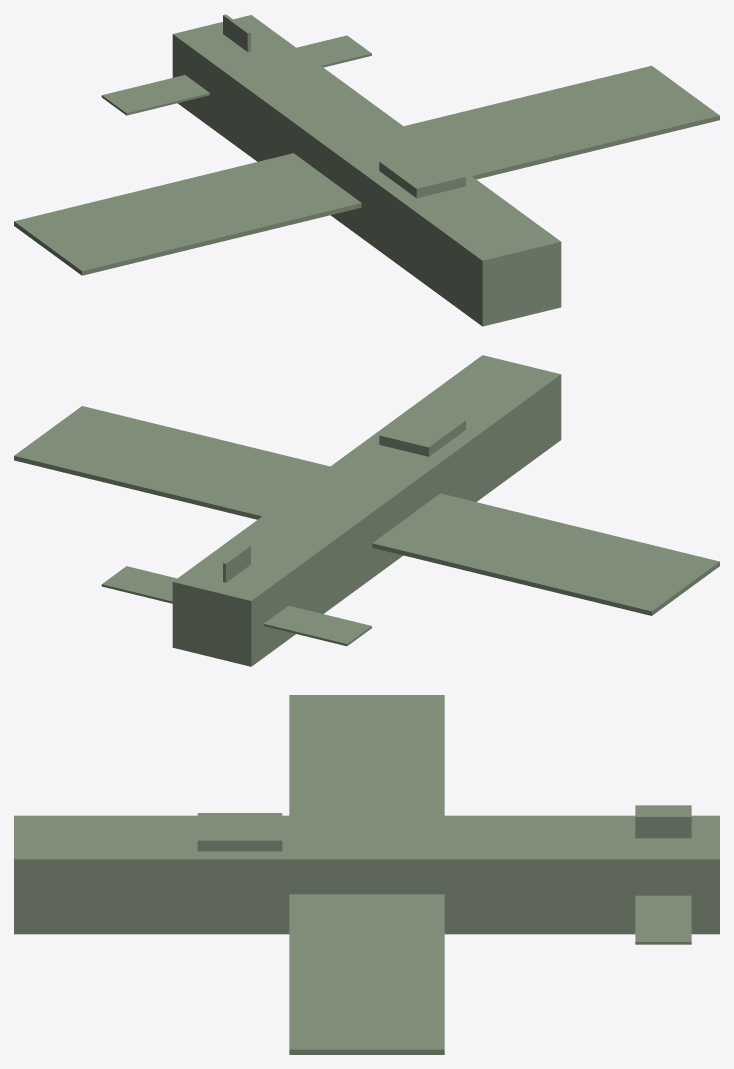
3 views of the same model, one above another, from view 1: azimuth 30°, elevation 25°; view 2: azimuth 150°, elevation 25°; view 3: azimuth 270°, elevation 25° (orthographic). The views are drawn at different scales.
Visible parts, largest first — view 1: Fuselage, Wing_L, Wing_R, Cockpit, Elevator_L, Elevator_R, Rudder; view 2: Fuselage, Wing_L, Wing_R, Cockpit, Elevator_L, Elevator_R, Rudder; view 3: Fuselage, Wing_R, Wing_L, Cockpit, Elevator_R, Rudder, Elevator_L.
Boxes of the visible parts, x1,y1,x2,y2 form: Fuselage: [172, 15, 561, 326]; Wing_L: [14, 153, 361, 275]; Wing_R: [404, 65, 719, 179]; Cockpit: [379, 149, 465, 198]; Elevator_L: [101, 75, 209, 115]; Elevator_R: [296, 35, 371, 67]; Rudder: [223, 14, 250, 51]; Fuselage: [172, 355, 561, 666]; Wing_L: [372, 493, 719, 615]; Wing_R: [14, 406, 329, 519]; Cockpit: [379, 408, 465, 456]; Elevator_L: [263, 605, 371, 646]; Elevator_R: [101, 566, 176, 603]; Rudder: [223, 545, 250, 582]; Fuselage: [14, 815, 719, 934]; Wing_R: [289, 894, 444, 1054]; Wing_L: [289, 695, 444, 815]; Cockpit: [197, 813, 282, 851]; Elevator_R: [635, 895, 691, 944]; Rudder: [635, 815, 691, 838]; Elevator_L: [635, 805, 691, 815].
Bounding box in the file's own units: 11.65 × 1.48 × 9.8.
